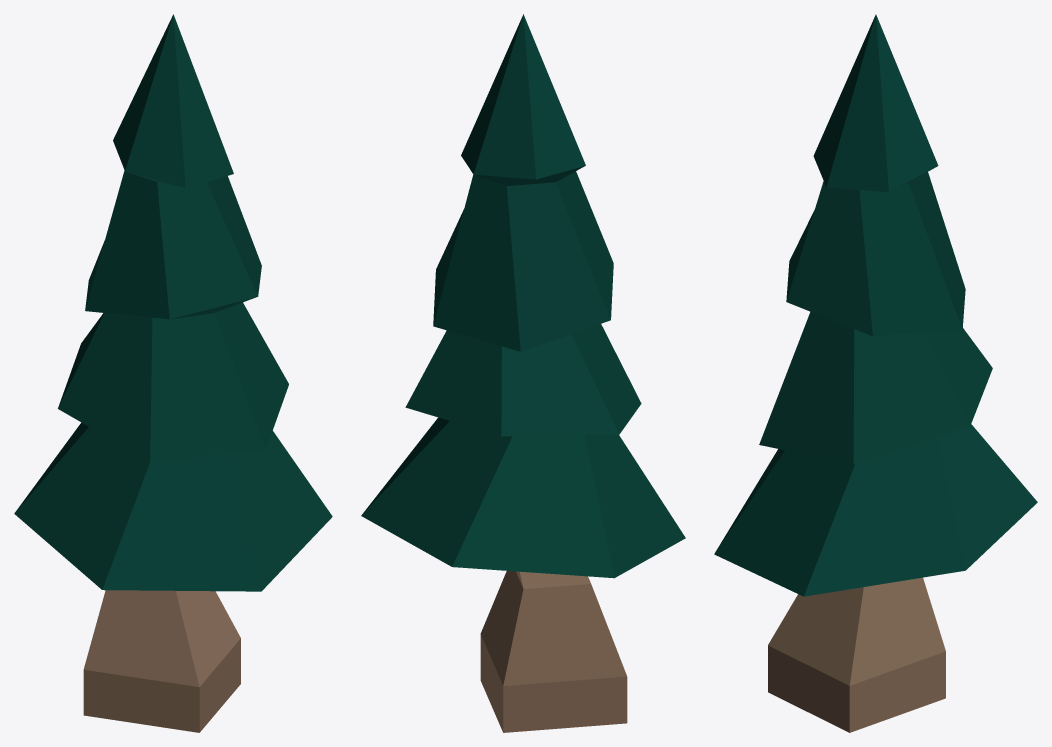
File: Pine_05_Mesh.fbx
3 renders of one model, left to right at view 1: azimuth 30°, elevation 25°; view 2: azimuth 150°, elevation 25°; view 3: azimuth 270°, elevation 25°, orthographic. The views are drawn at different scales.
Parts seen in each view (by area): view 1: Pine.004_LOD0; view 2: Pine.004_LOD0; view 3: Pine.004_LOD0.
Part boxes in pixels (x1,y1,x2,y2): Pine.004_LOD0: (14,14,332,732); Pine.004_LOD0: (361,14,685,732); Pine.004_LOD0: (714,14,1037,732).
Size of what is drawn, in the model's own units: 13702 by 35535 by 15084.
